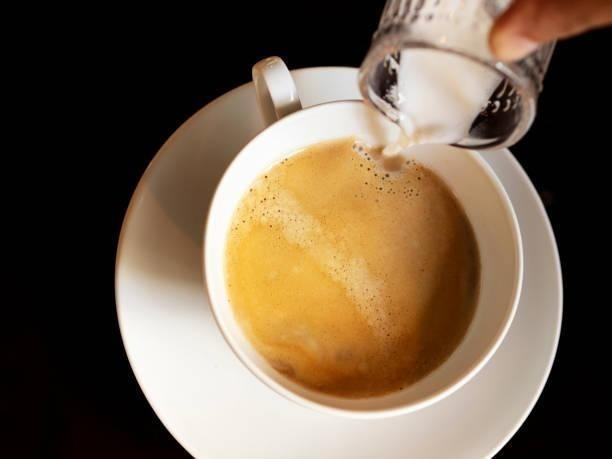cup-handle: (199, 53, 526, 424)
